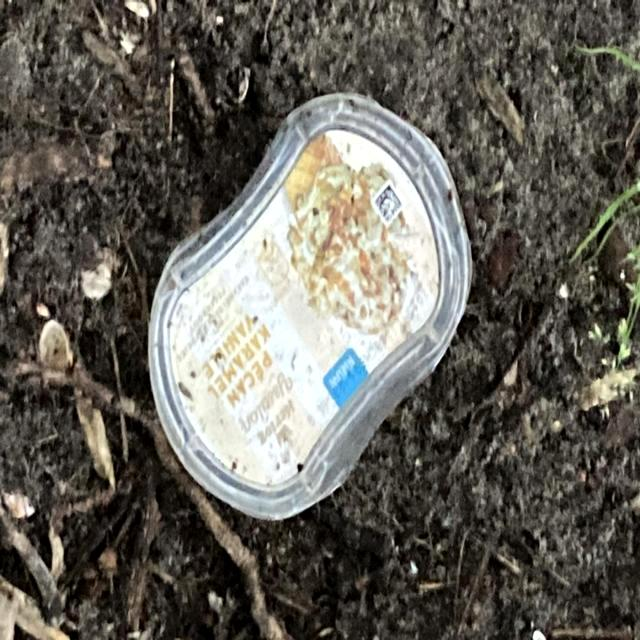Paper: (142, 88, 476, 528)
